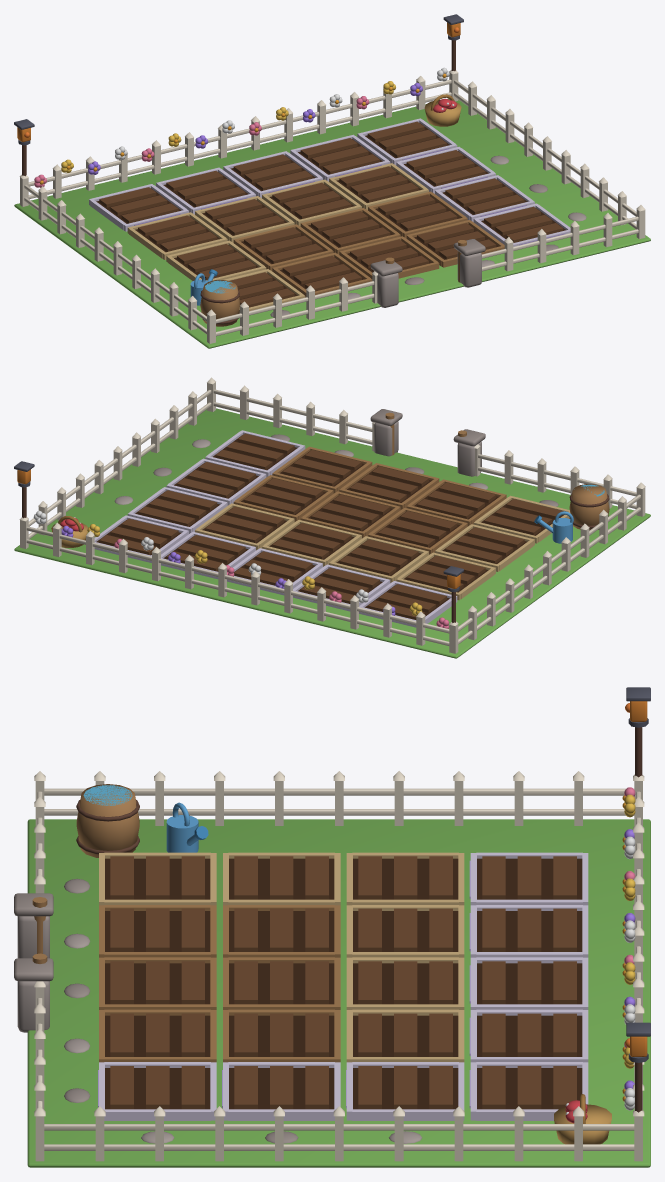
File: garden3.glb
The picture shows the model from 3 angles, top to bottom: view 1: azimuth 30°, elevation 25°; view 2: azimuth 150°, elevation 25°; view 3: azimuth 270°, elevation 25°; orthographic projection. The views are drawn at different scales.
Visible parts, largest first — view 1: base, glim-plots, flowers, ember-lanterns; view 2: base, glim-plots, flowers, ember-lanterns; view 3: base, glim-plots, ember-lanterns, flowers.
Part boxes in pixels (x1,y1,x2,y2): base: (14, 70, 650, 348); glim-plots: (89, 118, 570, 246); flowers: (34, 67, 449, 187); ember-lanterns: (14, 14, 463, 176); base: (14, 377, 650, 658); glim-plots: (94, 430, 457, 627); flowers: (33, 510, 449, 628); ember-lanterns: (14, 461, 463, 622); base: (14, 771, 650, 1167); glim-plots: (98, 852, 588, 1120); ember-lanterns: (625, 687, 650, 1112); flowers: (622, 787, 635, 1110).
Size of the model in its own units: 6.6 by 1.21 by 5.14.
